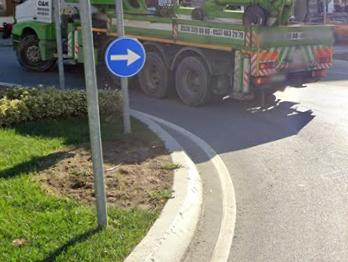turnright: (105, 39, 145, 75)
